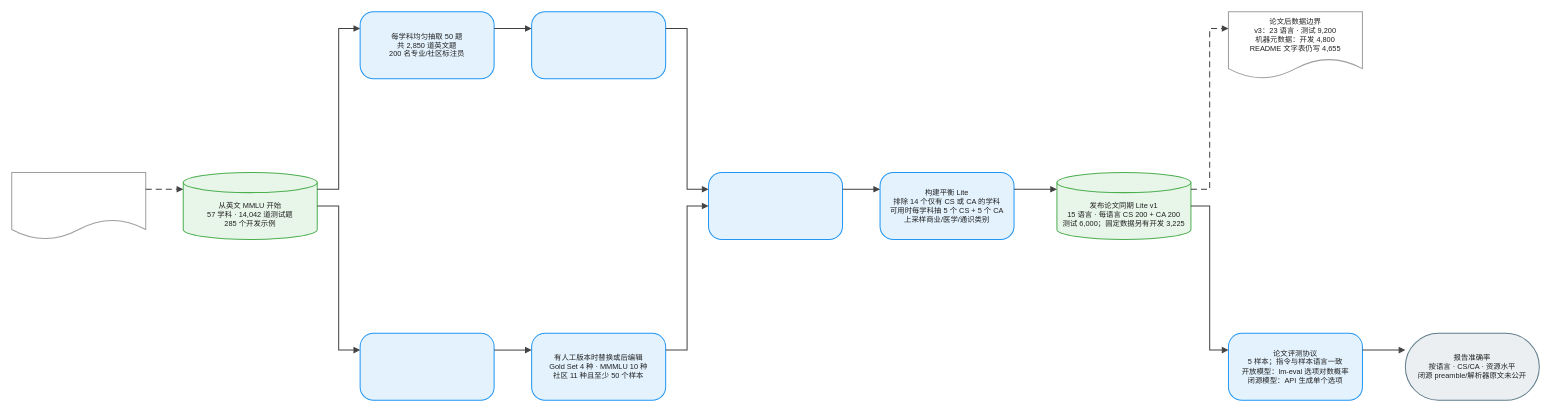
Some shapes in this 1552 by 413 pixel diagram are drawn without their labels. Here are the shapes that lost their labels. From the top down, the centre of each, then its label:
At point (598, 45): "每题至少 3 份标注 半数及以上即保留该标签 文化 · 地理 · 方言 · 时间 前三者任一为真即 CS；否则 CA".
At point (78, 206): "一手证据 arXiv:2412.03304v2 完整集 0e619dbe Lite v1 b88e8867 当前 Lite v3 36c2fd75".
At point (775, 206): "将 CS/CA 标签与译文合并 Lite 仅保留人工翻译 或人工后编辑语言".
At point (426, 367): "全部测试题翻译为 41 种语言 每种语言统一用 Google Translate".
